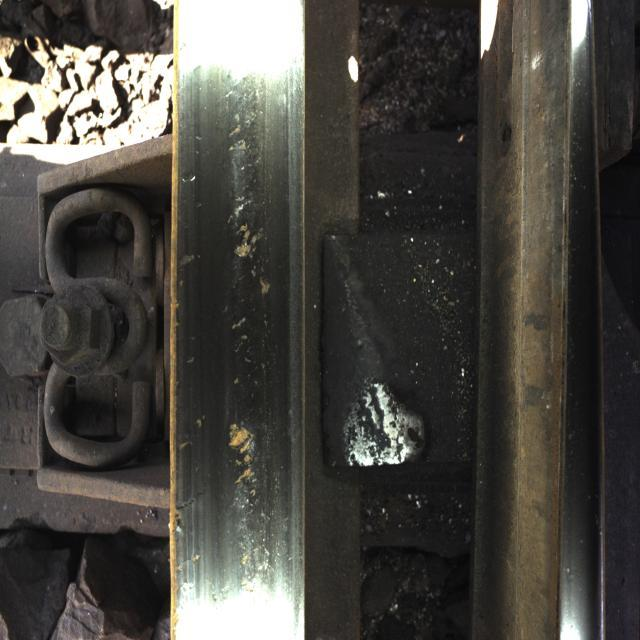crack: (184, 54, 290, 606)
